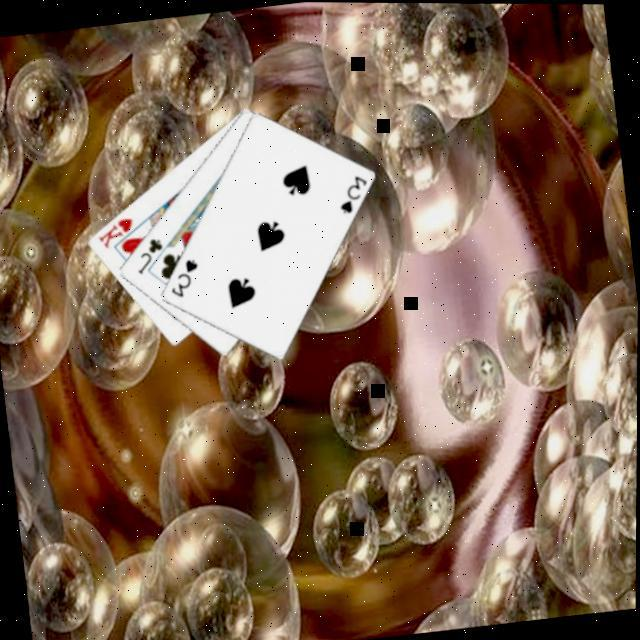3S: (166, 253, 206, 299), (334, 169, 374, 215)
JC: (132, 232, 171, 276)
KH: (94, 212, 140, 251)
